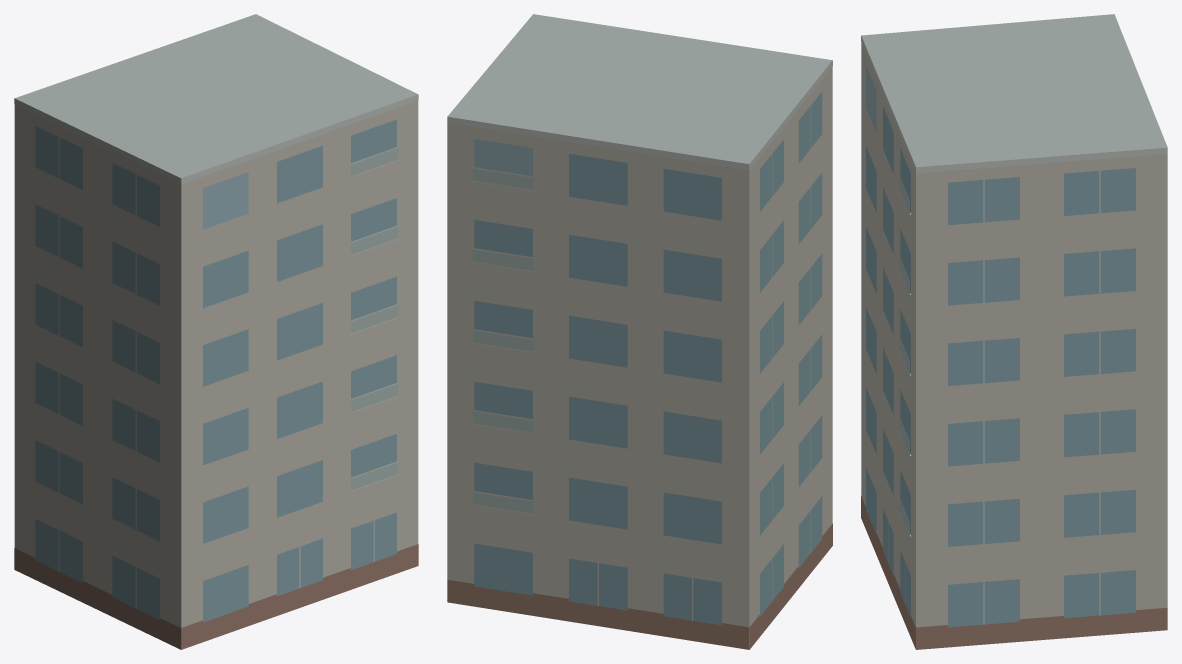
File: survey-upis-32838033.glb
3 renders of one model, left to right at view 1: azimuth 30°, elevation 25°; view 2: azimuth 150°, elevation 25°; view 3: azimuth 270°, elevation 25°, orthographic. The views are drawn at different scales.
Parts seen in each view (by area): view 1: survey-upis-32838033.tmp; view 2: survey-upis-32838033.tmp; view 3: survey-upis-32838033.tmp.
Boxes of the visible parts, <box> form: survey-upis-32838033.tmp: <box>14,14,418,649</box>; survey-upis-32838033.tmp: <box>447,14,832,649</box>; survey-upis-32838033.tmp: <box>861,14,1167,649</box>.
Bounding box in the file's own units: 12.92 × 18.95 × 10.92.
